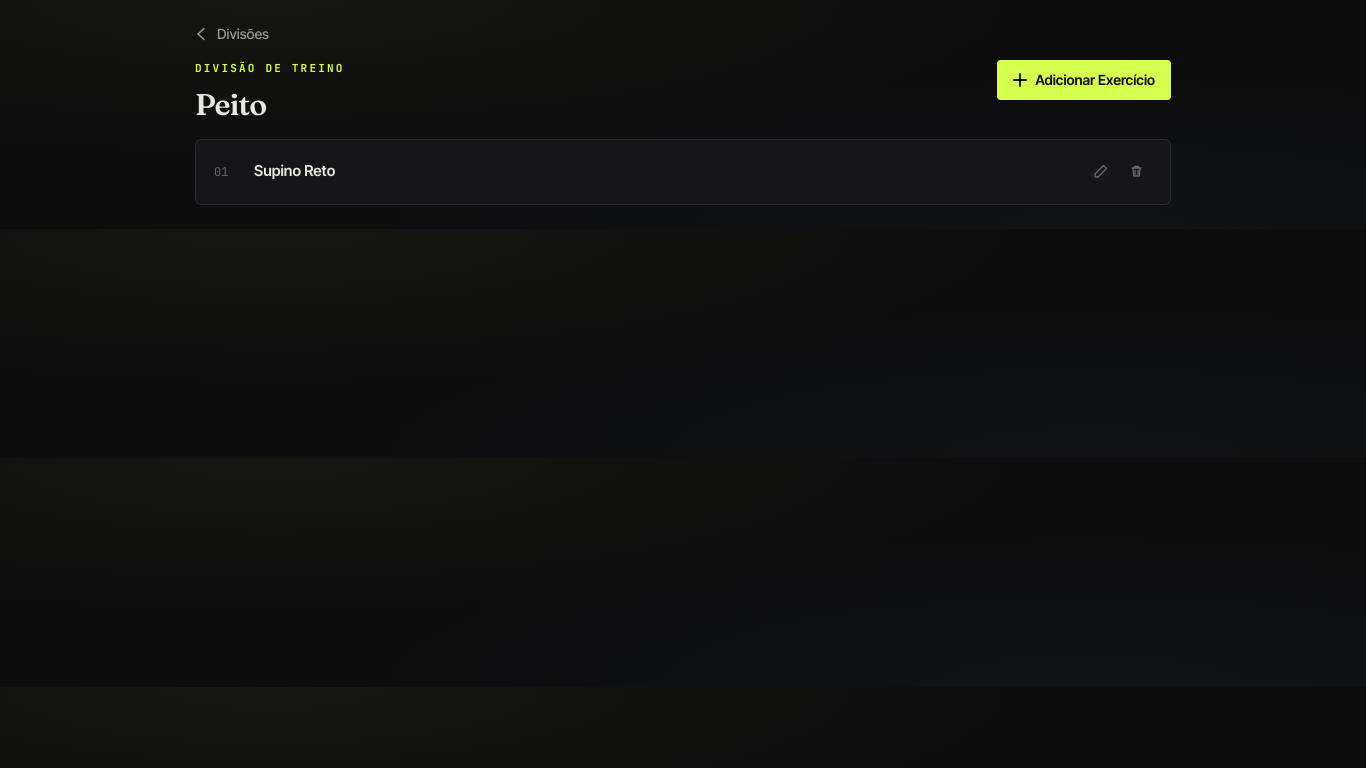
Test case: ExercisesComponent › edit exercise › should show a conflict message on 409
Click the button named "Renomear exercício" at (1100, 172), box [1084,156,1116,188]
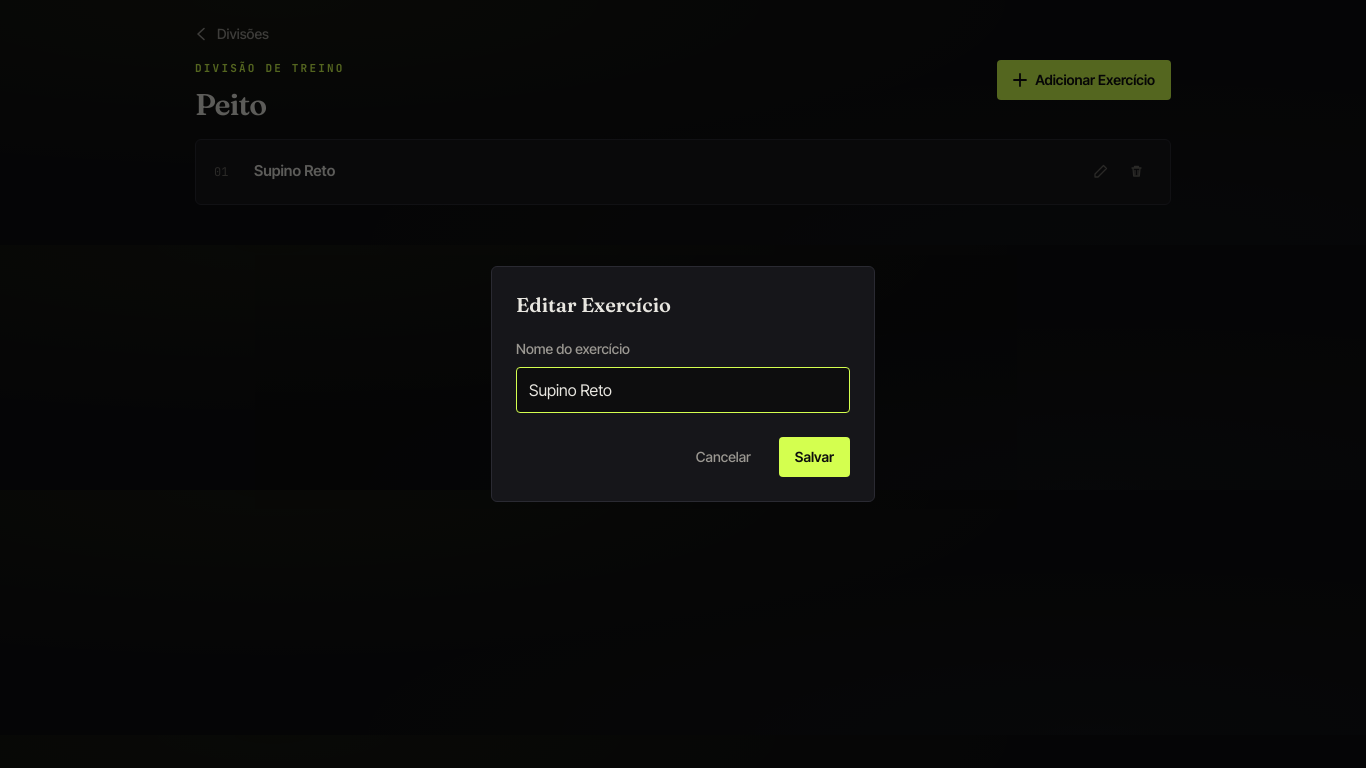
Replace the text in the field labelled "Nome do exercício" with "Outro nome" at (683, 390), box [516,367,850,413]
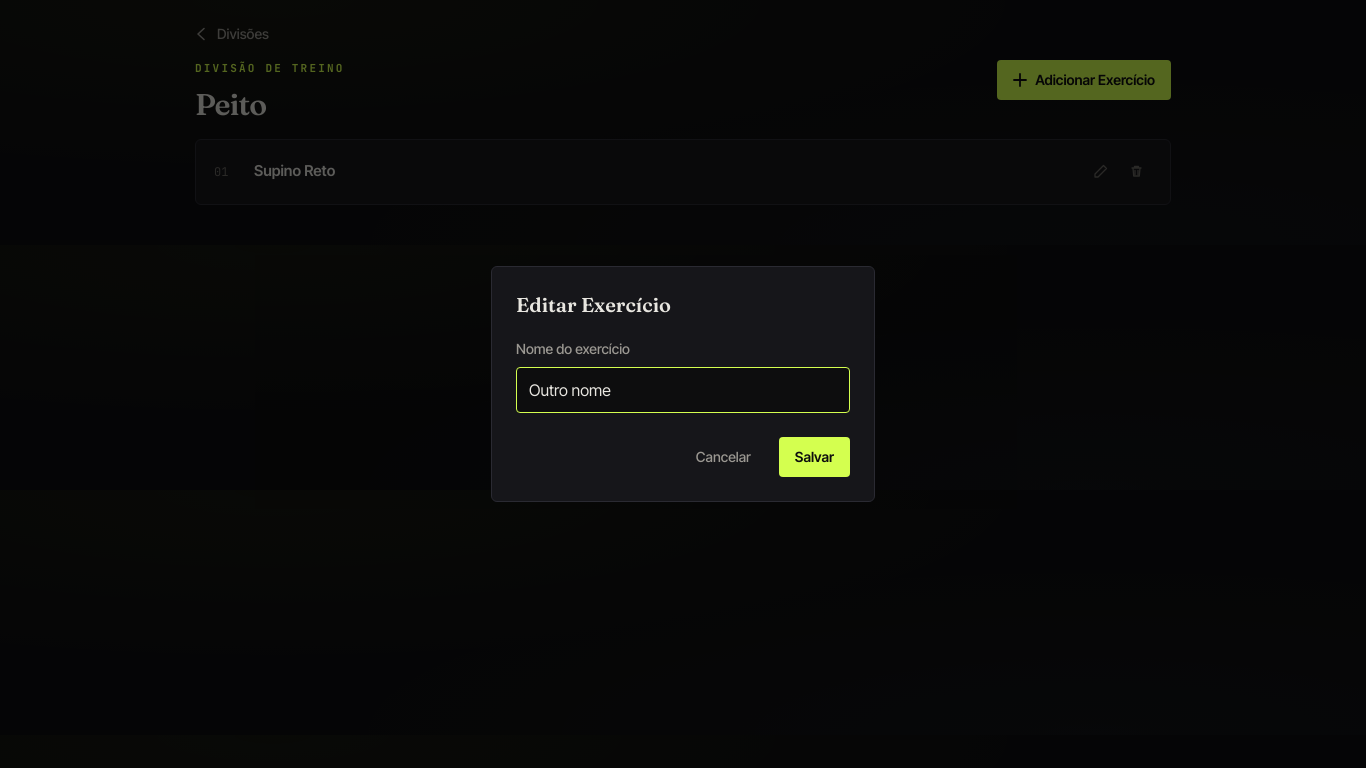
Click the button "Salvar" at (814, 457), box [779,437,850,477]
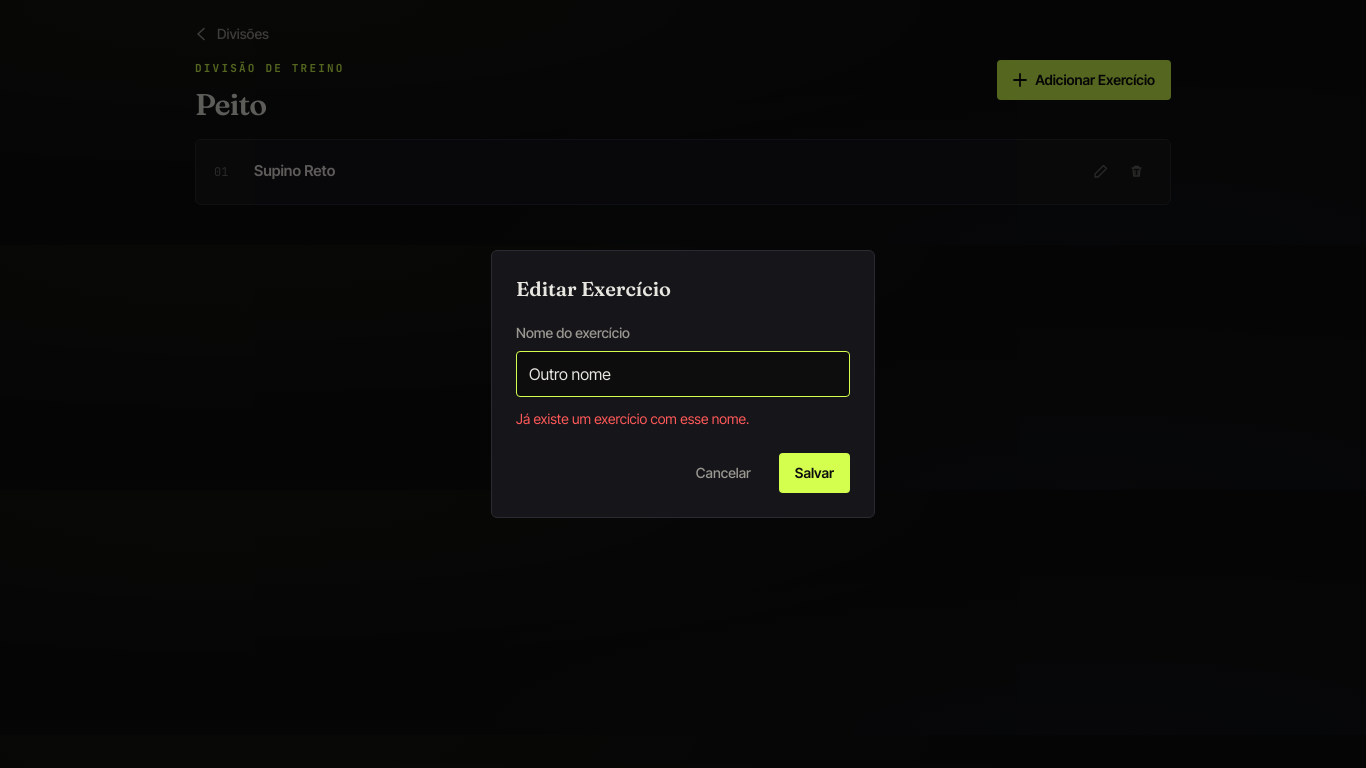
Expected: the text "Já existe um exercício com esse nome." is shown, [516,410,749,427]
